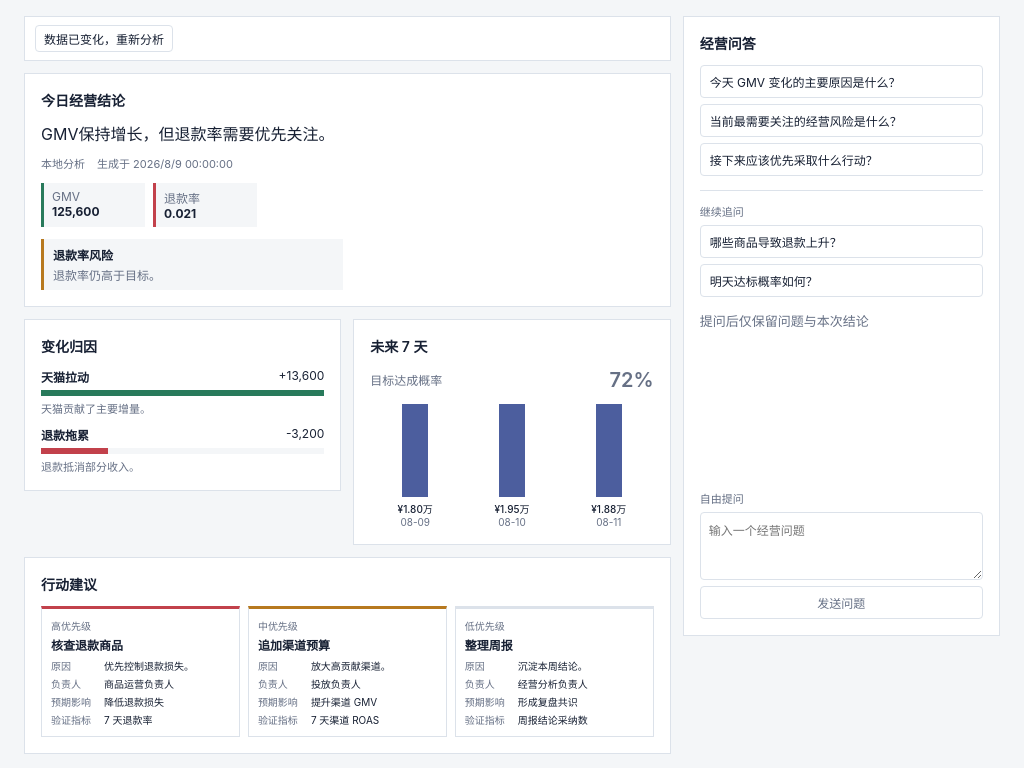
Scenario: 智能分析生命周期 › 数据变化后预测保持已分析版本并在重新分析成功时原子切换
Expected: the text "GMV保持增长，但退款率需要优先关注。" is shown, [41,124,334,144]
Expected: the text "72%" is shown, [610,368,654,392]
Click the button "数据已变化，重新分析". click: (104, 38)
box: [35,25,173,52]
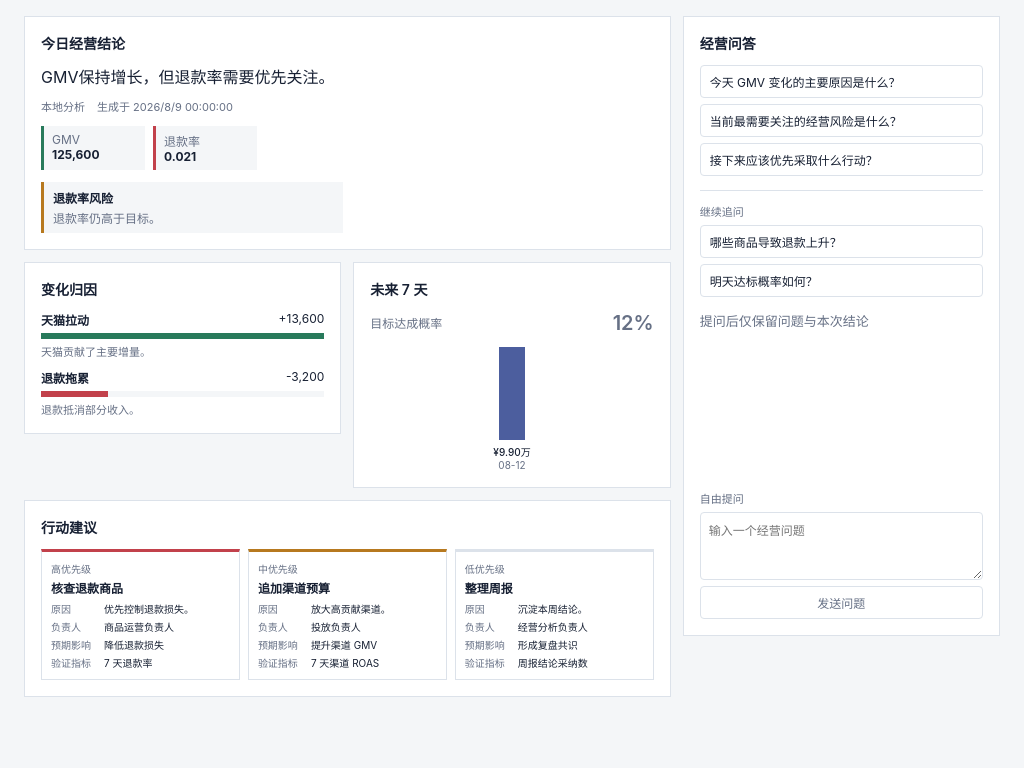
Expected: the text "12%" is shown, [613,311,654,335]
Expected: the text "¥9.90万" is shown, [493,444,531,459]
Expected: the text "72%" is gone
